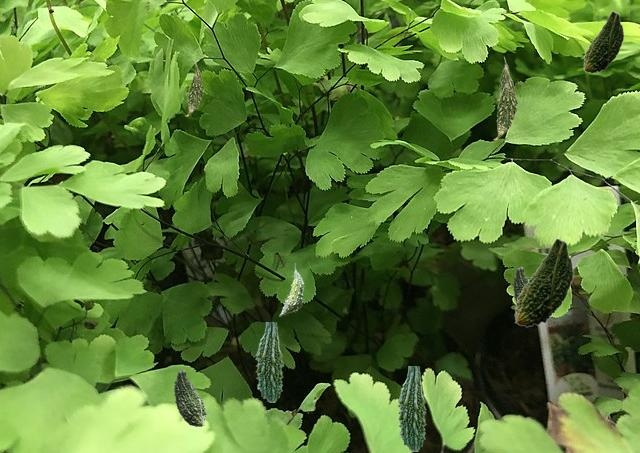ampalaya: (514, 238, 573, 326), (583, 11, 623, 72), (397, 366, 425, 450), (255, 322, 282, 401), (493, 64, 517, 139), (174, 369, 205, 425), (279, 263, 303, 315), (185, 59, 203, 115), (497, 56, 510, 99), (513, 266, 528, 301)
